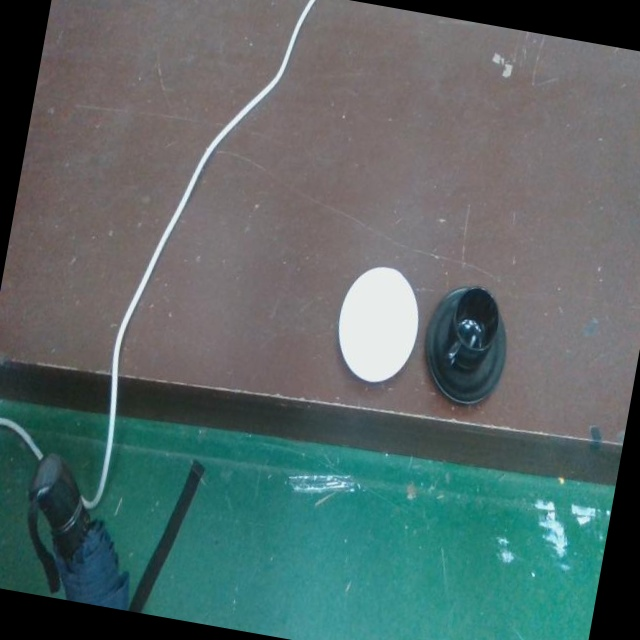black: (423, 283, 508, 408)
white: (337, 263, 420, 387)
